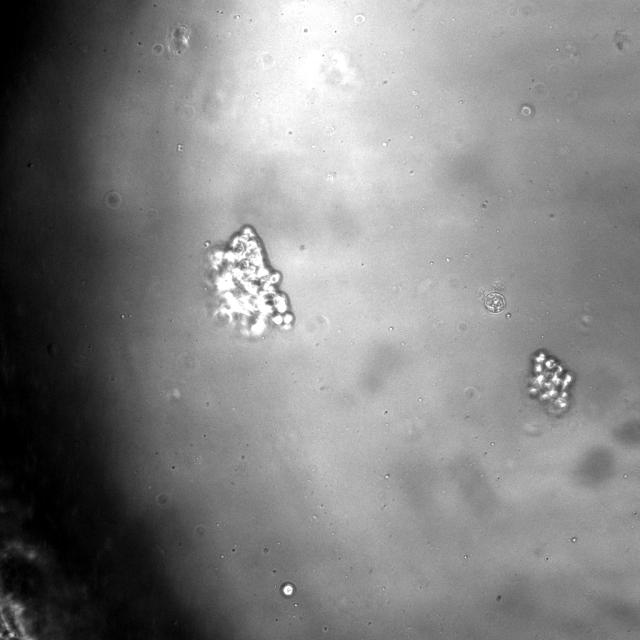organoid: (207, 225, 294, 336), (527, 349, 574, 415), (484, 292, 505, 313), (279, 582, 296, 598)
